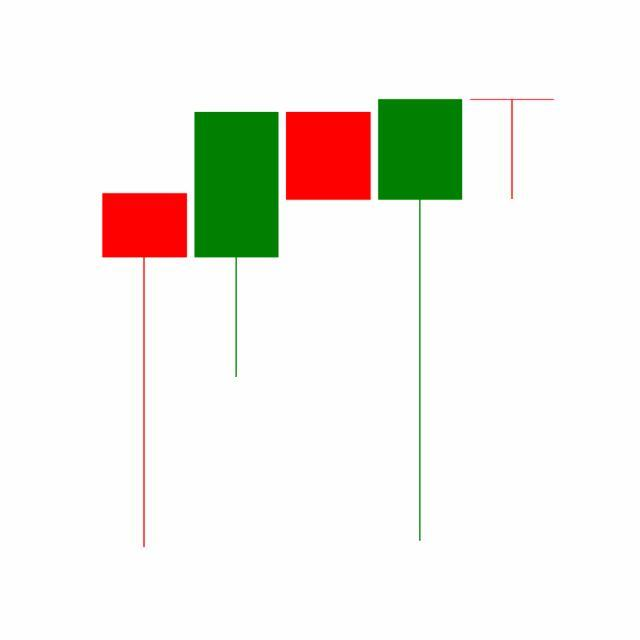Dragonfly Doji: (466, 98, 559, 202)
